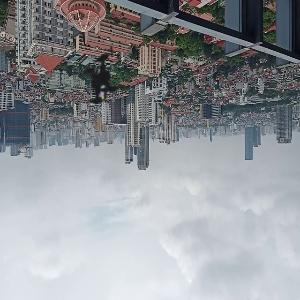drone: (17, 1, 189, 173)
